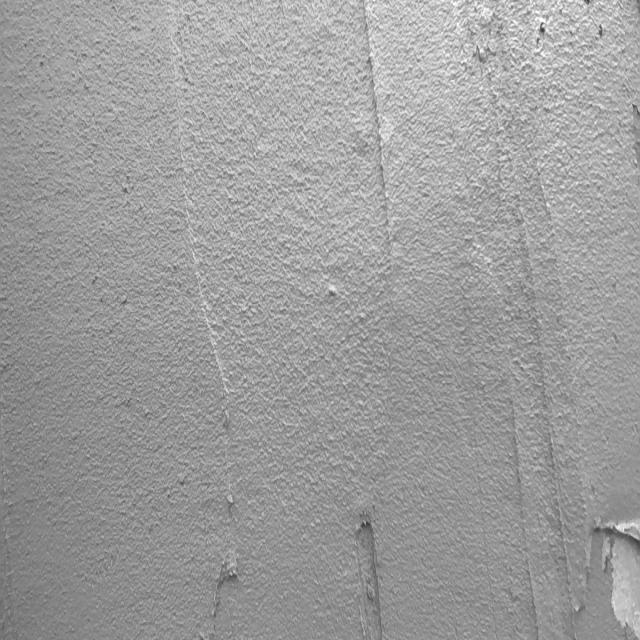trowels marks: (167, 48, 238, 500), (522, 225, 588, 640), (362, 13, 402, 279), (210, 560, 242, 624)
